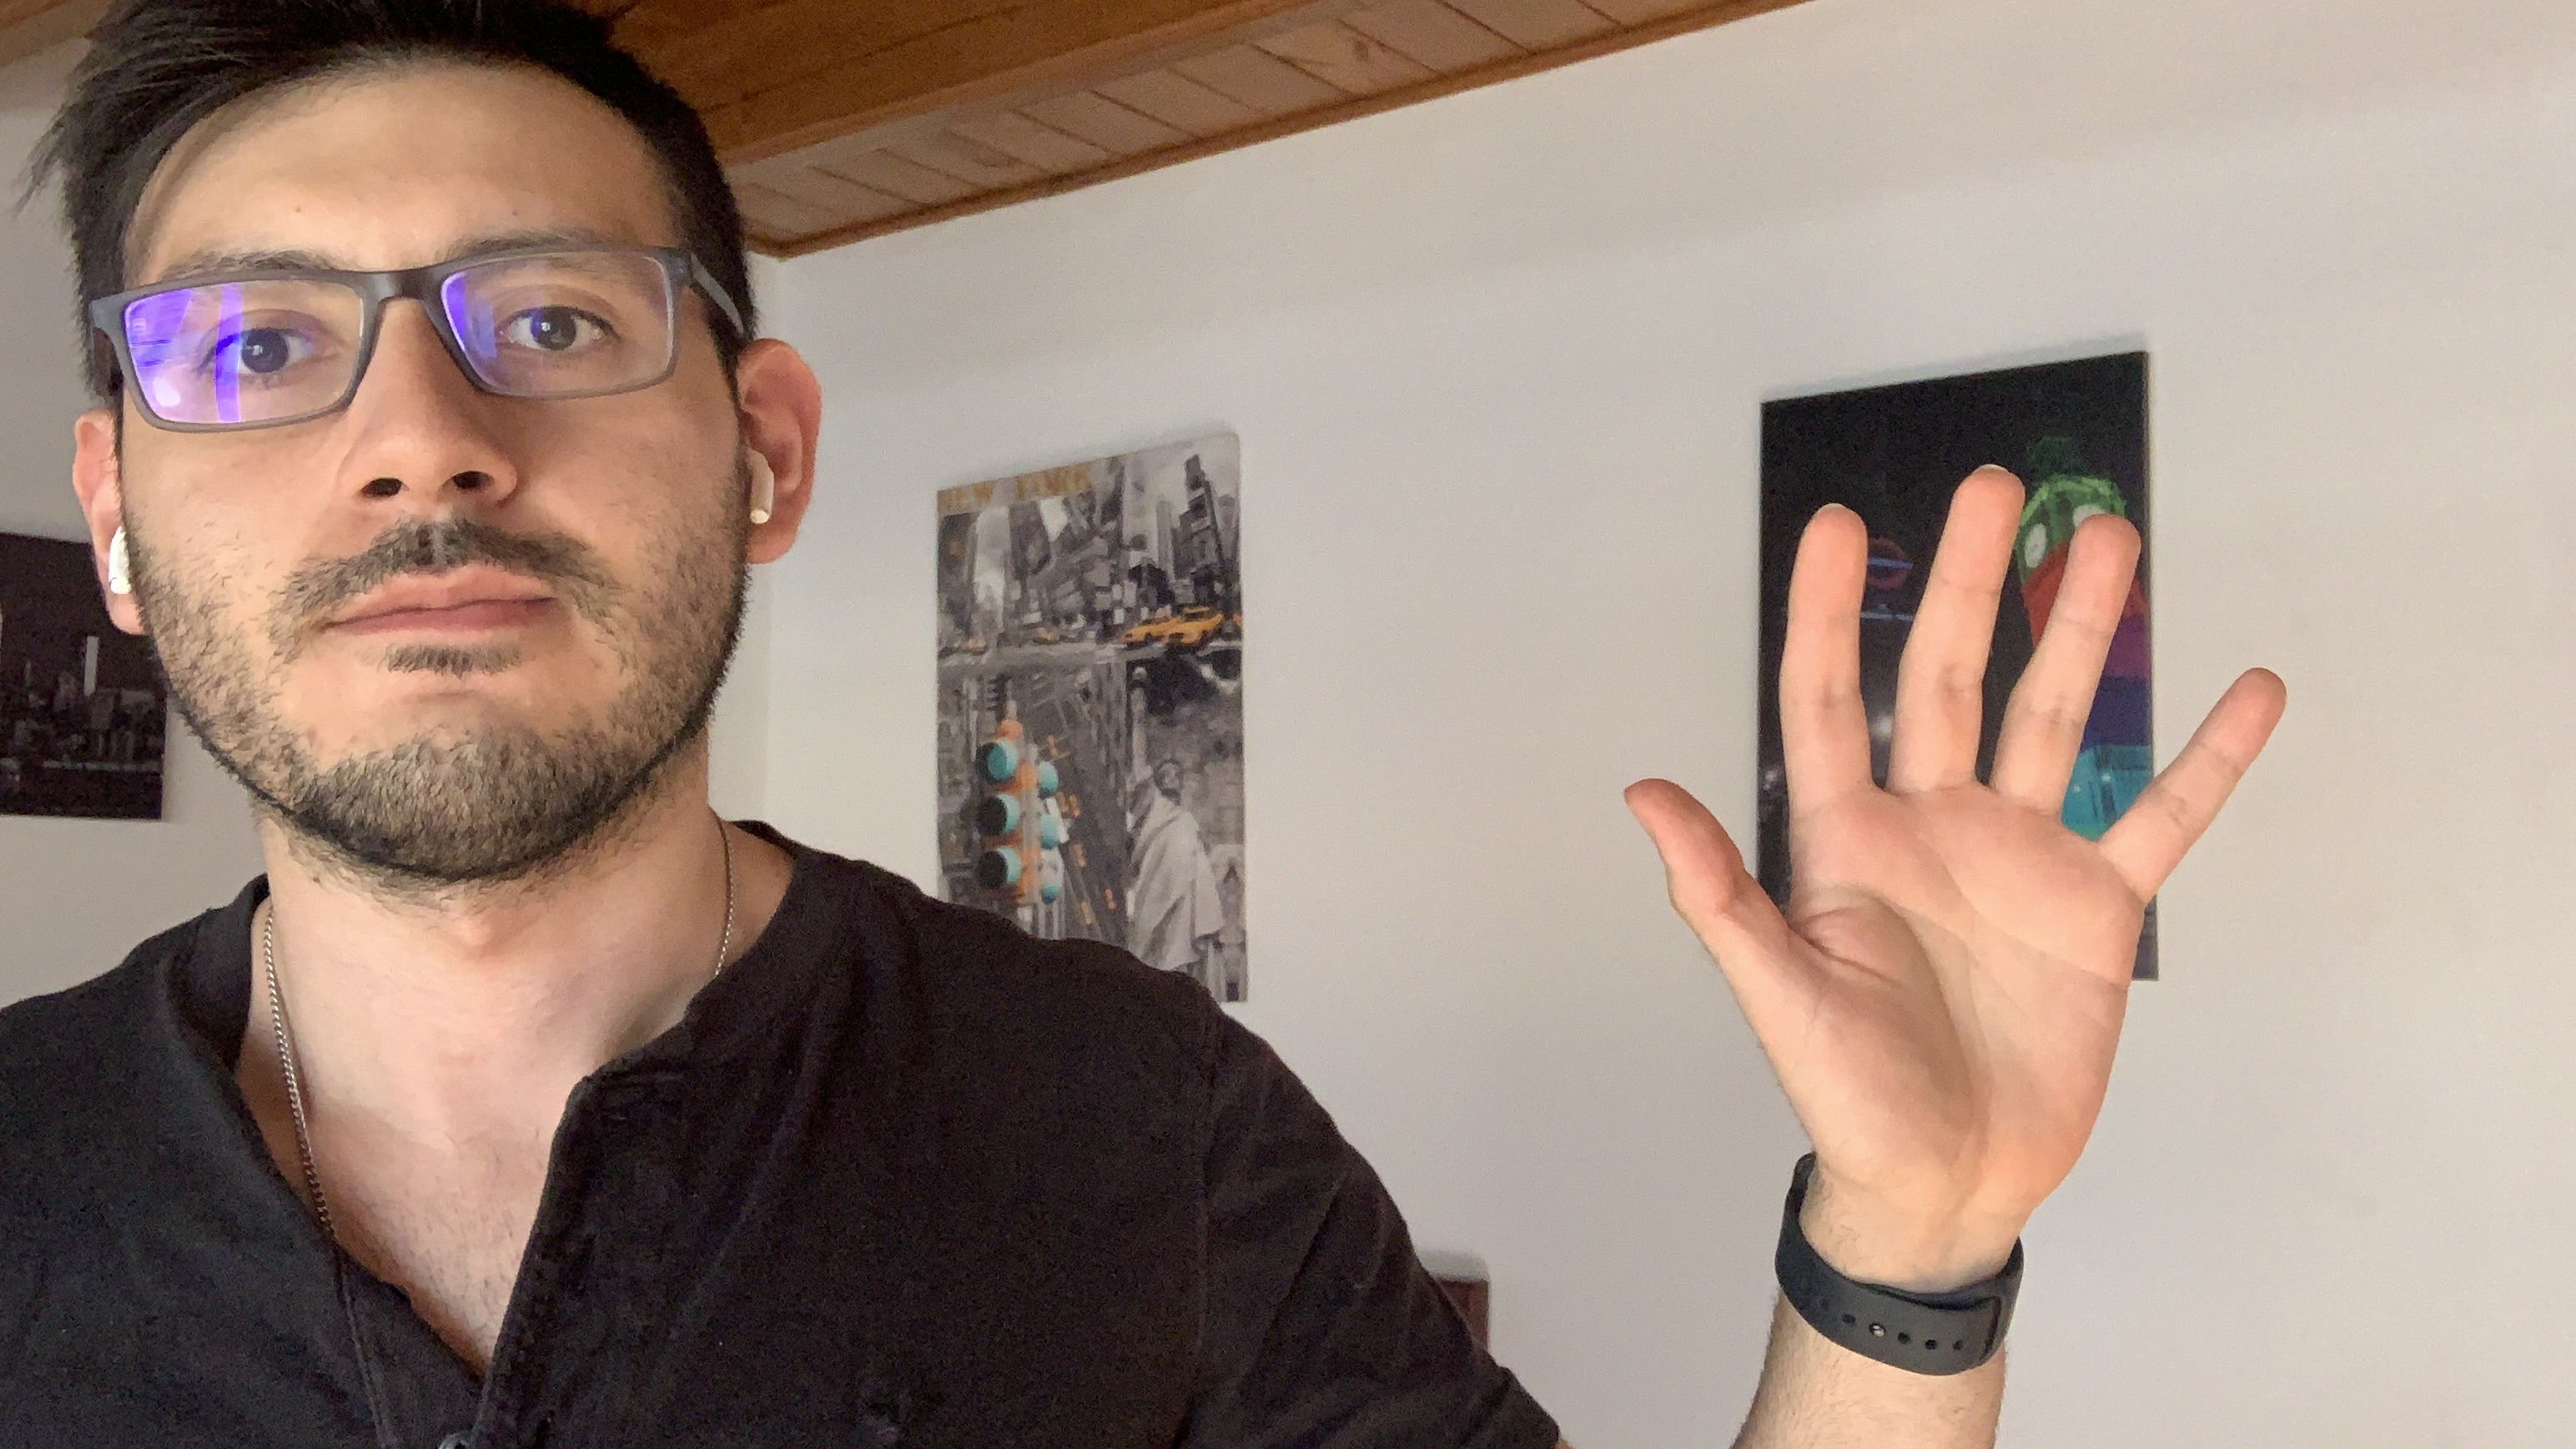Hello: (1615, 442, 2314, 1194)
